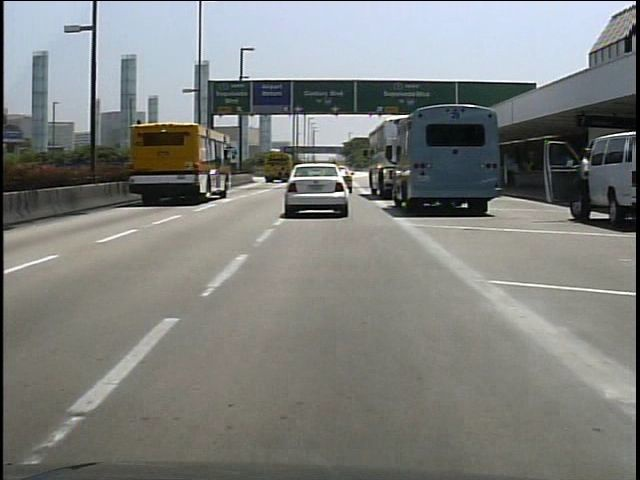person: (574, 139, 592, 226)
